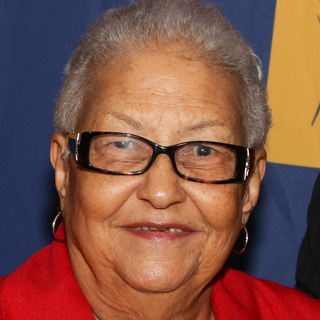eye: (185, 141, 229, 164)
